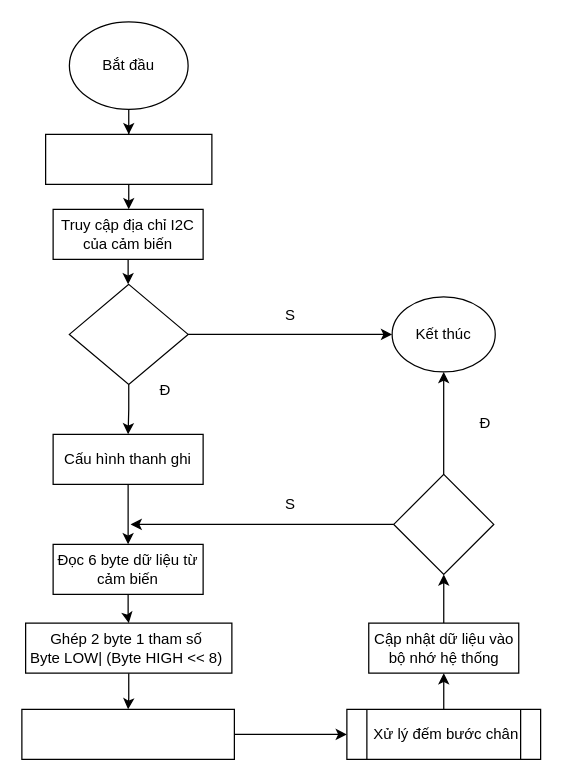
Image size: 563x781. Some labels were removed from this diagram. The shapes that lost their labels are listed below. From the top down, each one's centre as x and y in pixels, then its label:
pixel 128 158: Xóa dữ liệu trong buffer
pixel 128 333: Kết nối thành công ?
pixel 443 523: Cờ IMU tắt ?
pixel 127 733: Trục gia tốc = Dữ liệu / 4096
